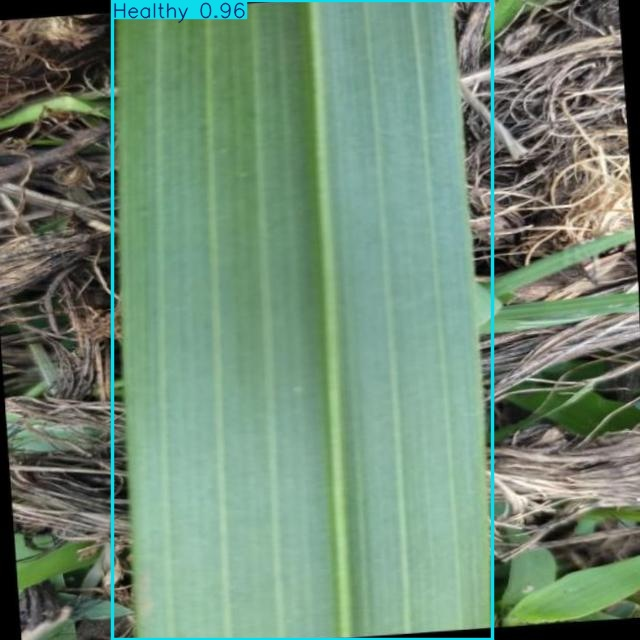Healthy: (112, 0, 492, 640)
